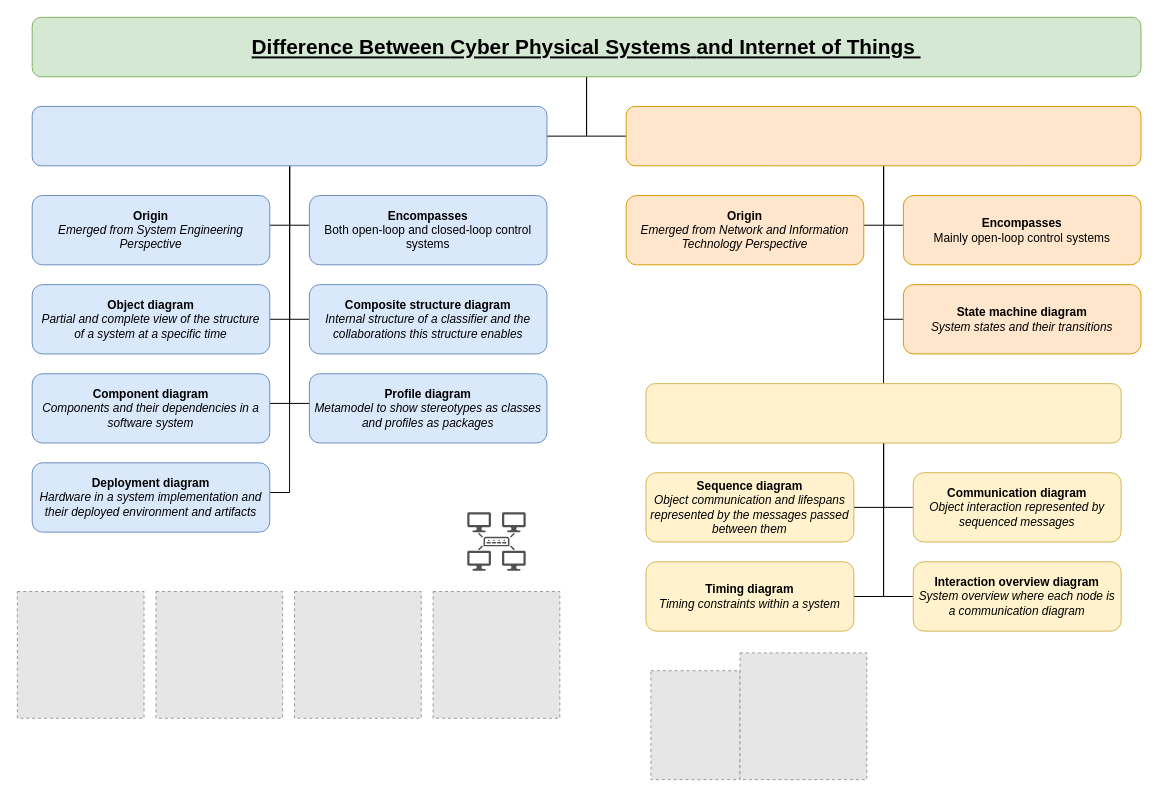
Some shapes in this 1158 by 797 pixel diagram are drawn without their labels. Grey dashed boxes stand in for pictures. The shapes that lost their labels are listed below. From the top down, each one's box as (x1, y1, x2, y2) in pixels, then its label:
(31, 105, 547, 166): Cyber Physical Systems
(625, 105, 1141, 166): Internet of Things
(645, 383, 1121, 443): Interaction diagrams
